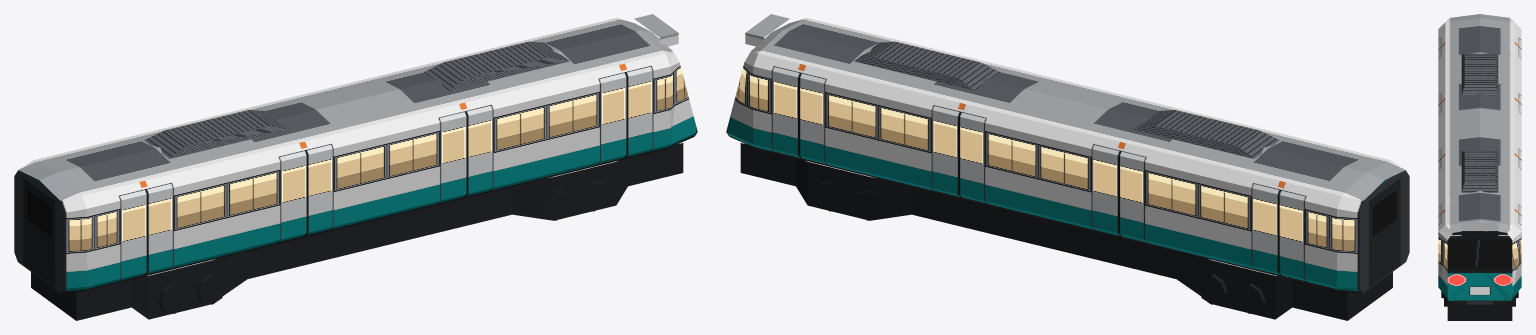
File: steel_classic__neutral__tail.glb
3 views of the same model, side by side, from view 1: azimuth 30°, elevation 25°; view 2: azimuth 150°, elevation 25°; view 3: azimuth 270°, elevation 25° (orthographic). The views are drawn at different scales.
Parts seen in each view (by area): view 1: steel_classic__neutral__tail; view 2: steel_classic__neutral__tail; view 3: steel_classic__neutral__tail.
Part boxes in pixels (x1,y1,x2,y2): steel_classic__neutral__tail: (14,14,697,320); steel_classic__neutral__tail: (726,14,1409,320); steel_classic__neutral__tail: (1438,14,1521,320).
Size of the model in its own units: 15.49 by 3.49 by 2.46.
Materials: 1 (1 with a texture image).
